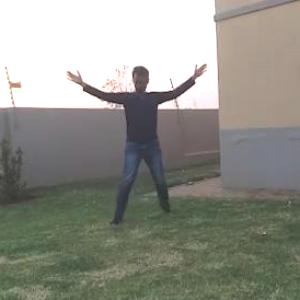takeoff: (45, 39, 198, 219)
